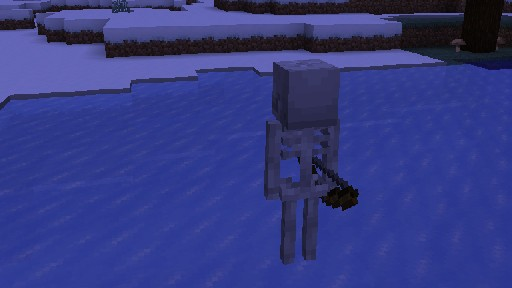skeleton: (263, 58, 359, 264)
